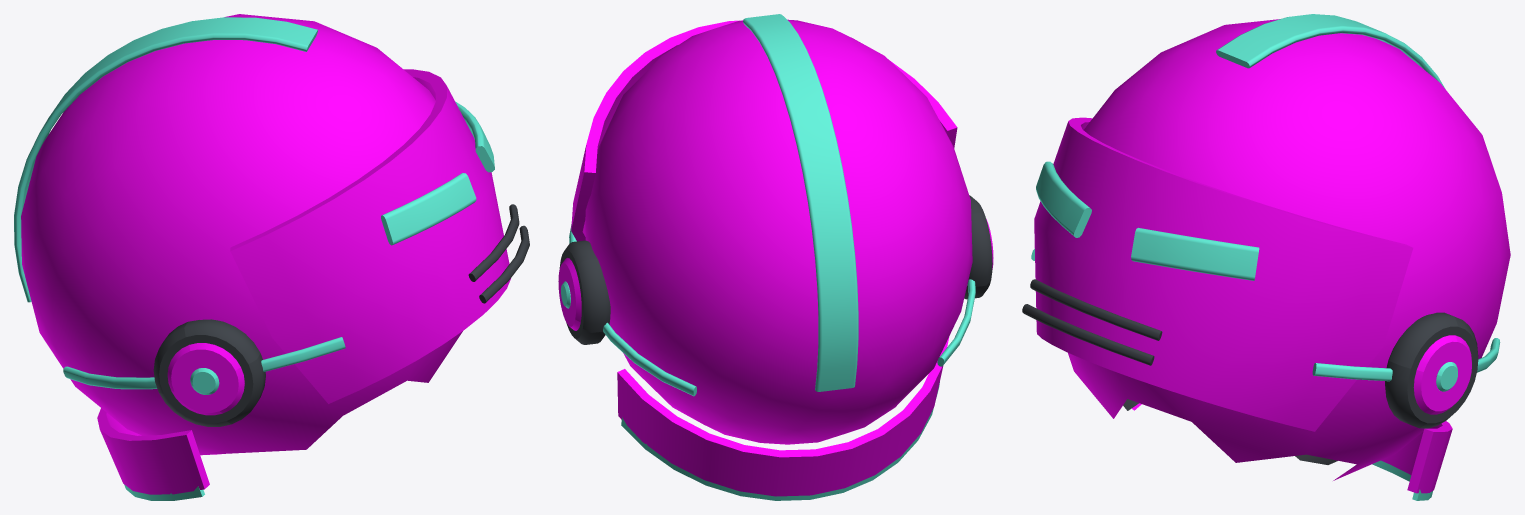
File: objet_armure5_casque.glb
The picture shows the model from 3 angles, left to right: view 1: azimuth 30°, elevation 25°; view 2: azimuth 150°, elevation 25°; view 3: azimuth 270°, elevation 25°; orthographic projection. The views are drawn at different scales.
Visible parts, largest first — view 1: tete__casque_teinte.010, tete__casque_nano_lueur.002, tete__casque_teinte_sombre.010; view 2: tete__casque_teinte.010, tete__casque_nano_lueur.002, tete__casque_teinte_sombre.010; view 3: tete__casque_teinte.010, tete__casque_nano_lueur.002, tete__casque_teinte_sombre.010.
Boxes of the visible parts, x1=… form: tete__casque_teinte.010: x1=21, y1=14, x2=510, y2=494; tete__casque_nano_lueur.002: x1=14, y1=17, x2=494, y2=500; tete__casque_teinte_sombre.010: x1=153, y1=204, x2=529, y2=426; tete__casque_teinte.010: x1=558, y1=19, x2=993, y2=496; tete__casque_nano_lueur.002: x1=561, y1=14, x2=975, y2=500; tete__casque_teinte_sombre.010: x1=559, y1=195, x2=992, y2=344; tete__casque_teinte.010: x1=1034, y1=19, x2=1510, y2=493; tete__casque_nano_lueur.002: x1=1031, y1=14, x2=1500, y2=500; tete__casque_teinte_sombre.010: x1=1022, y1=279, x2=1478, y2=464.
Bounding box in the file's own units: 0.2736 × 0.2896 × 0.2713.
